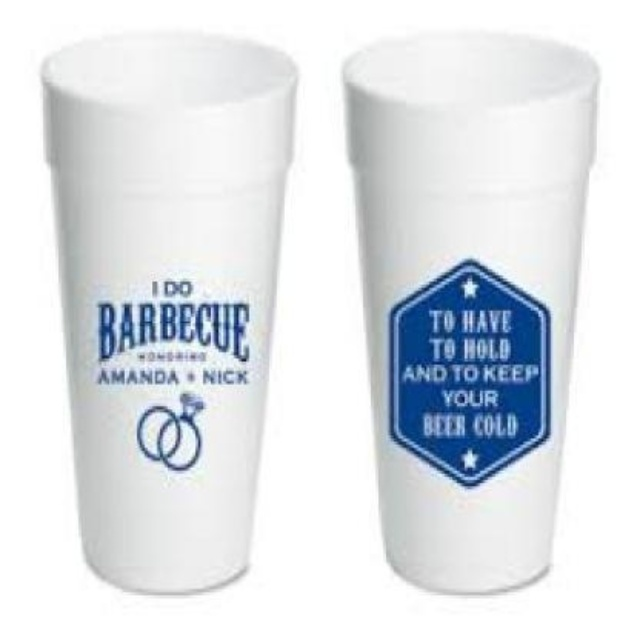trash: (43, 34, 295, 591), (345, 34, 597, 591)
